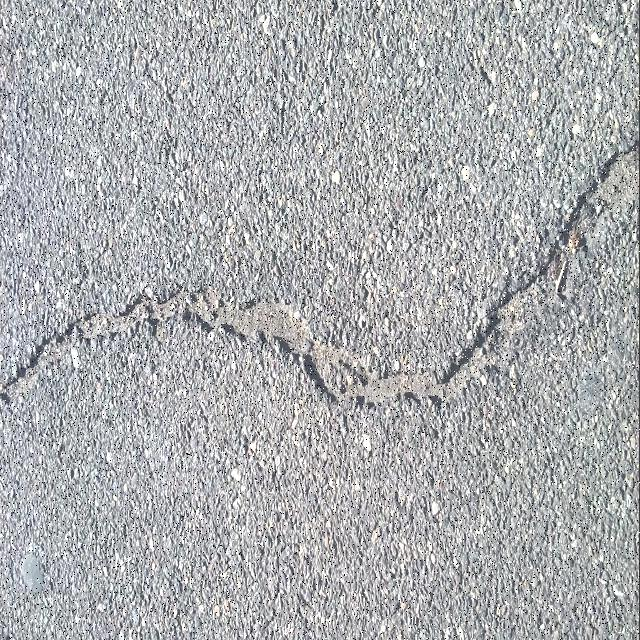Crack: (0, 138, 640, 414)
